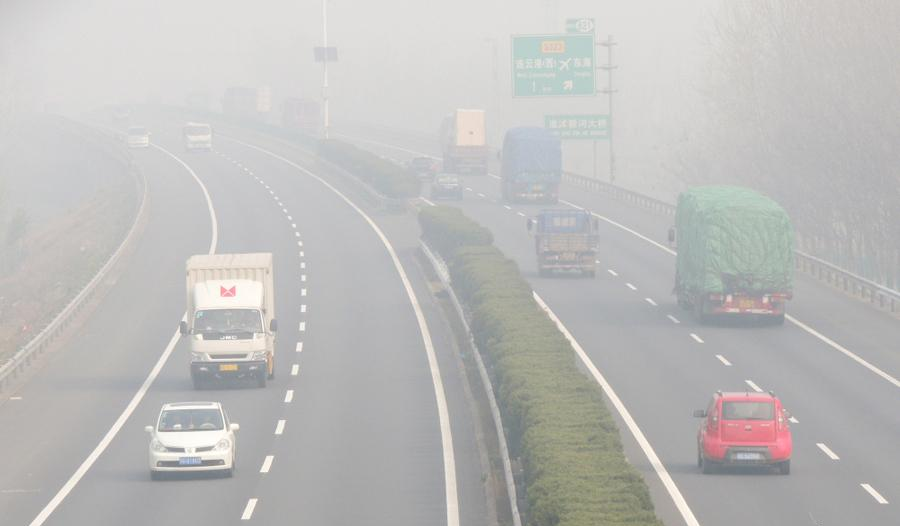bus: (666, 187, 793, 327), (179, 250, 279, 390), (496, 124, 564, 206), (527, 208, 600, 278), (439, 109, 491, 176), (217, 85, 273, 121), (280, 96, 322, 131)
car: (693, 389, 794, 474), (144, 400, 240, 481), (181, 121, 215, 152), (429, 174, 464, 200), (405, 154, 436, 182), (125, 126, 153, 149)
